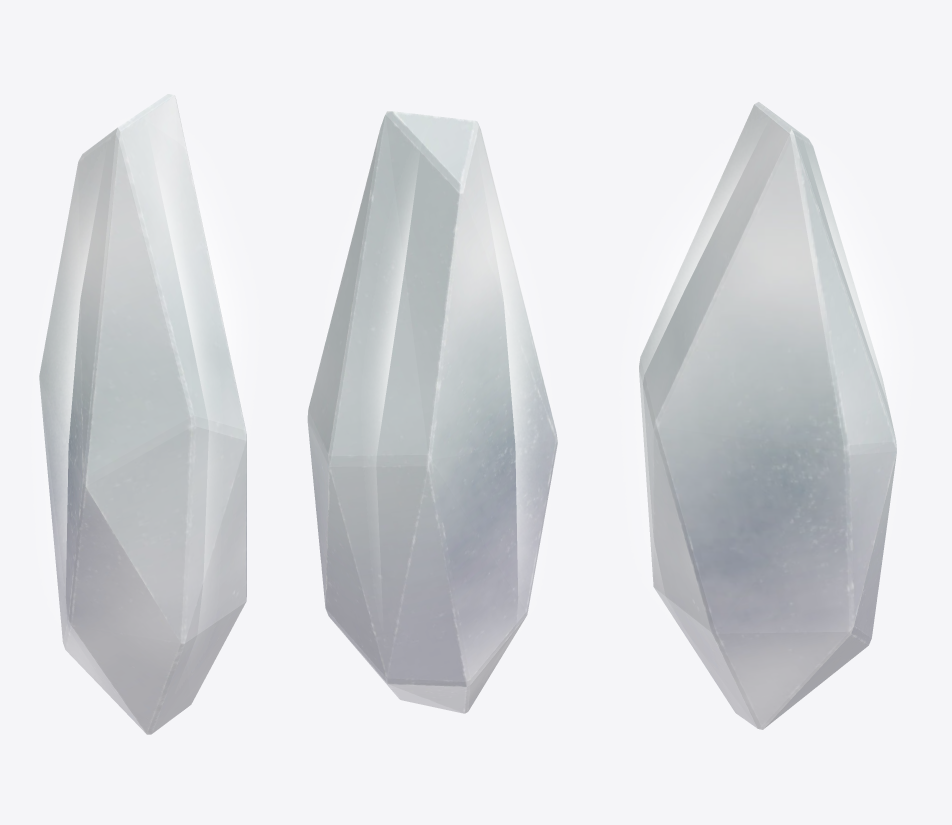
Rendered from gem_B.glb.
The picture shows the model from 3 angles, left to right: view 1: azimuth 30°, elevation 25°; view 2: azimuth 150°, elevation 25°; view 3: azimuth 270°, elevation 25°; orthographic projection.
Visible parts, largest first — view 1: B, light-B; view 2: B, light-B; view 3: B, light-B.
Part boxes in pixels (x1,y1,x2,y2): B: [39, 94, 246, 734]; light-B: [42, 152, 248, 620]; B: [307, 111, 557, 713]; light-B: [371, 172, 541, 604]; B: [639, 102, 896, 729]; light-B: [634, 147, 900, 580].
Size of the model in its own units: 2.24 by 5.46 by 2.51.
2 materials, 2 textured.
